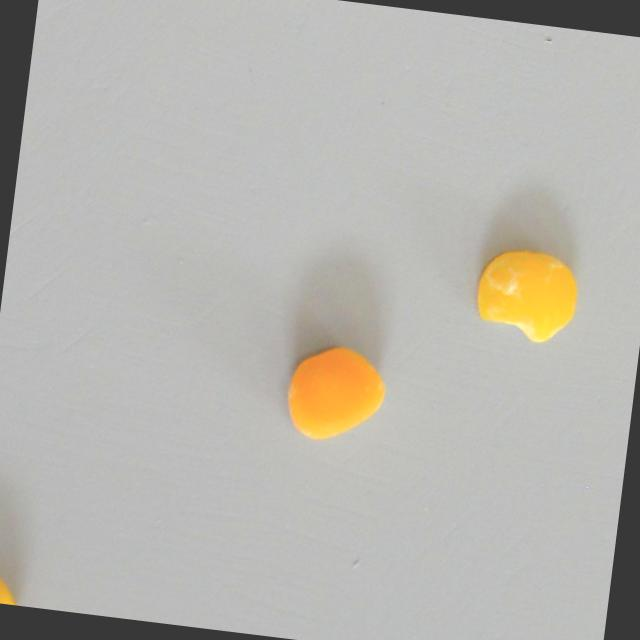no_canjicado: (280, 339, 390, 446), (0, 571, 29, 606)
pelicula: (470, 244, 583, 347)
